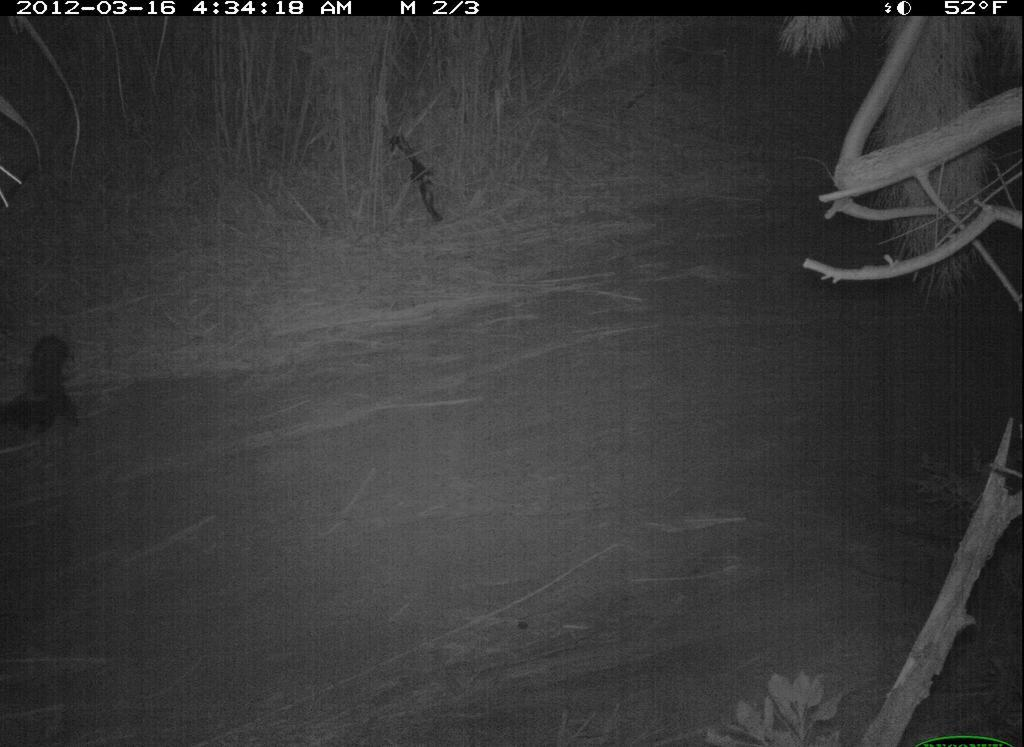skunk: (9, 327, 84, 451)
